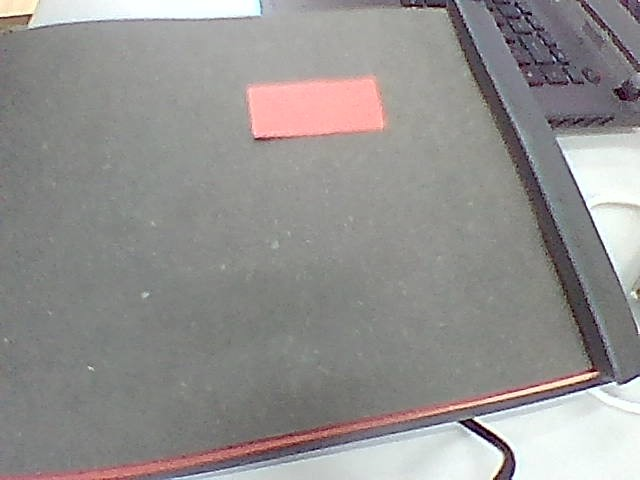card: (247, 76, 384, 138)
